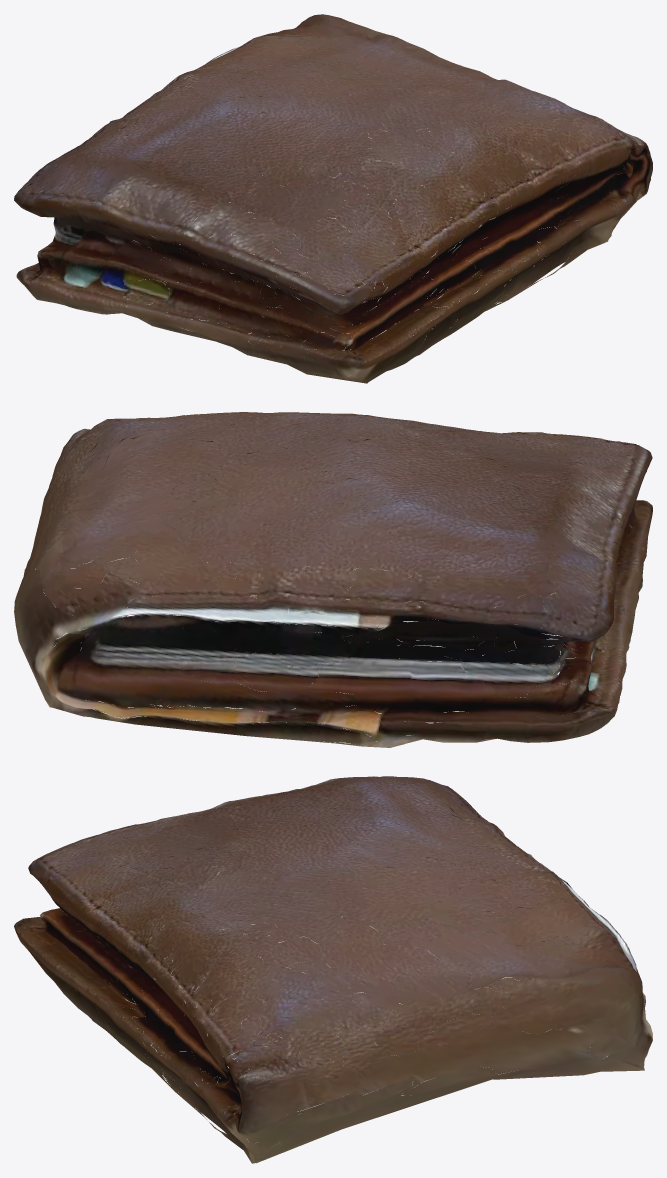
Rendered from wallet.glb.
The picture shows the model from 3 angles, top to bottom: view 1: azimuth 30°, elevation 25°; view 2: azimuth 150°, elevation 25°; view 3: azimuth 270°, elevation 25°; orthographic projection. The views are drawn at different scales.
Parts seen in each view (by area): view 1: Object_0; view 2: Object_0; view 3: Object_0.
Boxes of the visible parts, left/top/right/bottom form: Object_0: left=14, top=14, right=652, bottom=383; Object_0: left=14, top=412, right=652, bottom=747; Object_0: left=14, top=776, right=652, bottom=1163.
Size of the model in its own units: 0.11 by 0.0311 by 0.1024.
Materials: 1 (1 with a texture image).
